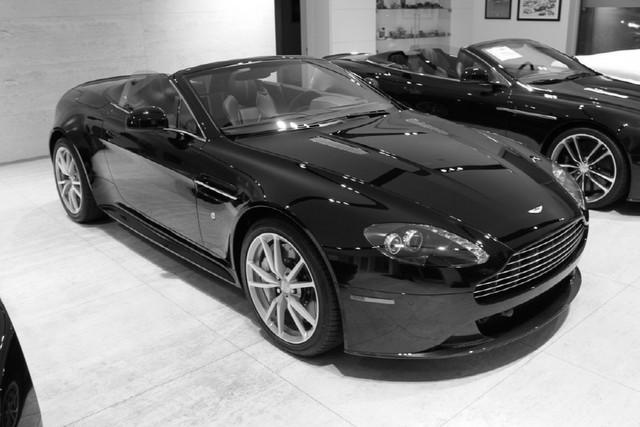car: (49, 55, 589, 363)
